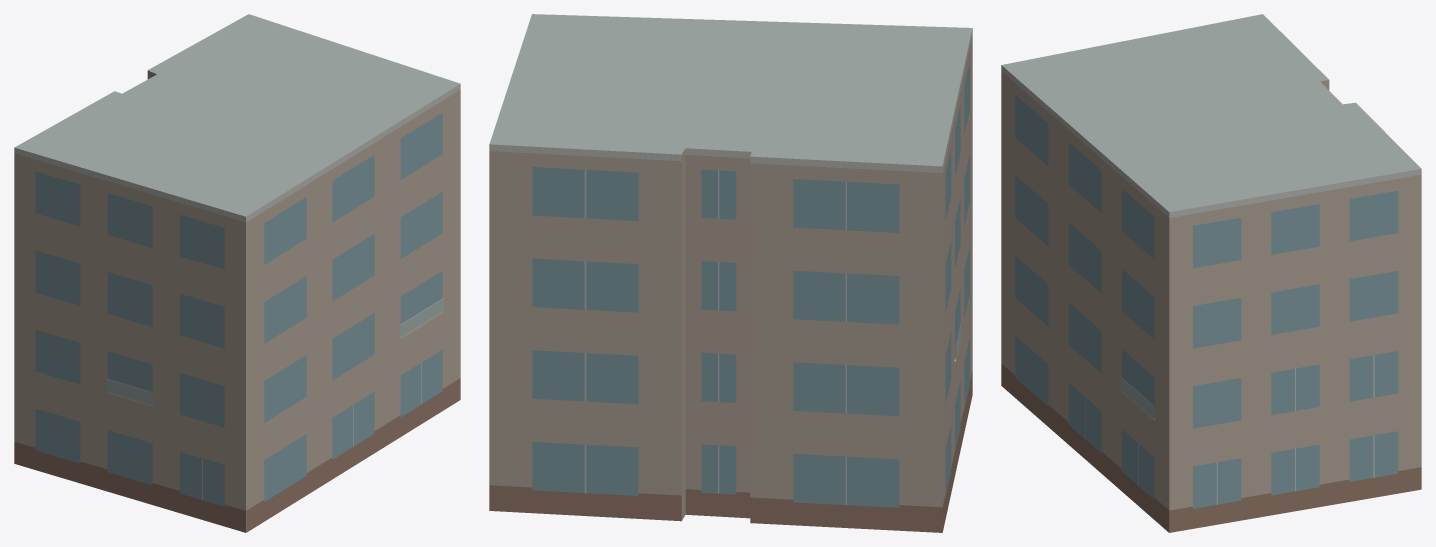
Rendered from survey-upis-32730930.glb.
3 views of the same model, side by side, from view 1: azimuth 30°, elevation 25°; view 2: azimuth 150°, elevation 25°; view 3: azimuth 270°, elevation 25° (orthographic). The views are drawn at different scales.
Visible parts, largest first — view 1: survey-upis-32730930.tmp; view 2: survey-upis-32730930.tmp; view 3: survey-upis-32730930.tmp.
Part boxes in pixels (<box>): survey-upis-32730930.tmp: <box>14,14,460,532</box>; survey-upis-32730930.tmp: <box>489,14,972,532</box>; survey-upis-32730930.tmp: <box>1001,14,1421,532</box>.
Bounding box in the file's own units: 17.77 × 13.4 × 15.92.
